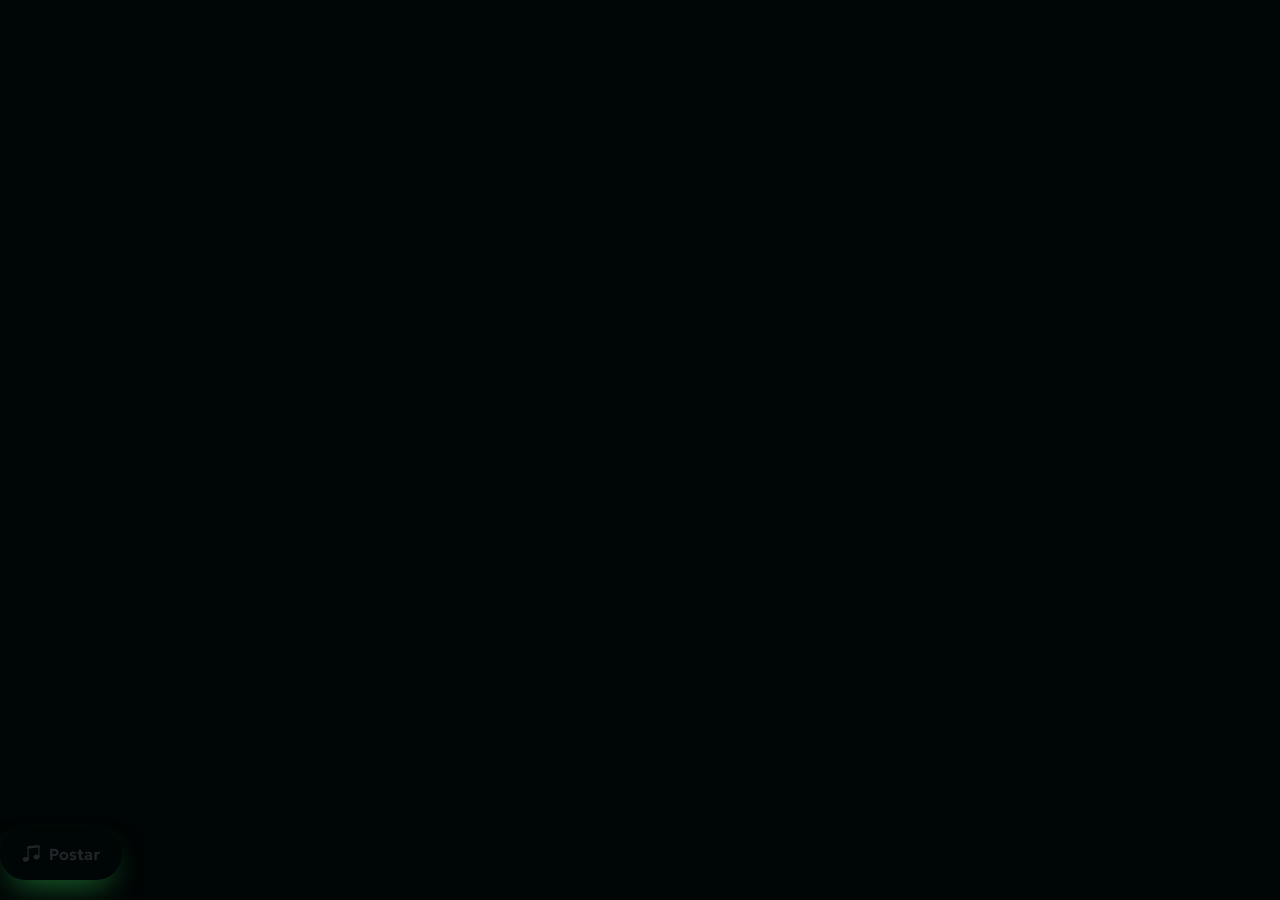
CreatePost › "Adicionar música" abre a busca focada; "Voltar" volta sem perder o texto
Click the button with aria-label "Criar post" at [61, 854], box x1=0 y1=828 x2=122 y2=880
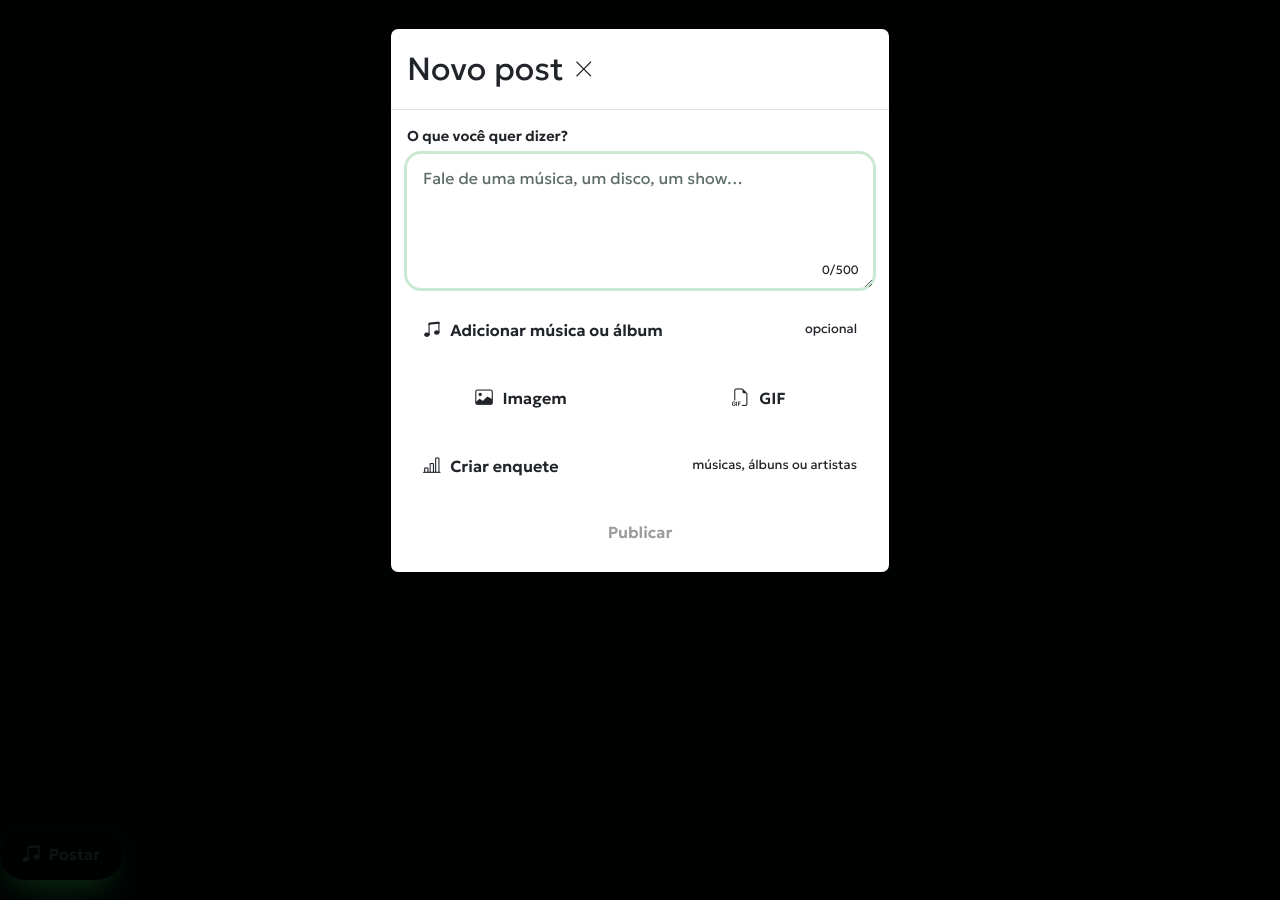
Type "rascunho" into the text box labelled "O que você quer dizer?" at [640, 221], box x1=407 y1=154 x2=873 y2=288
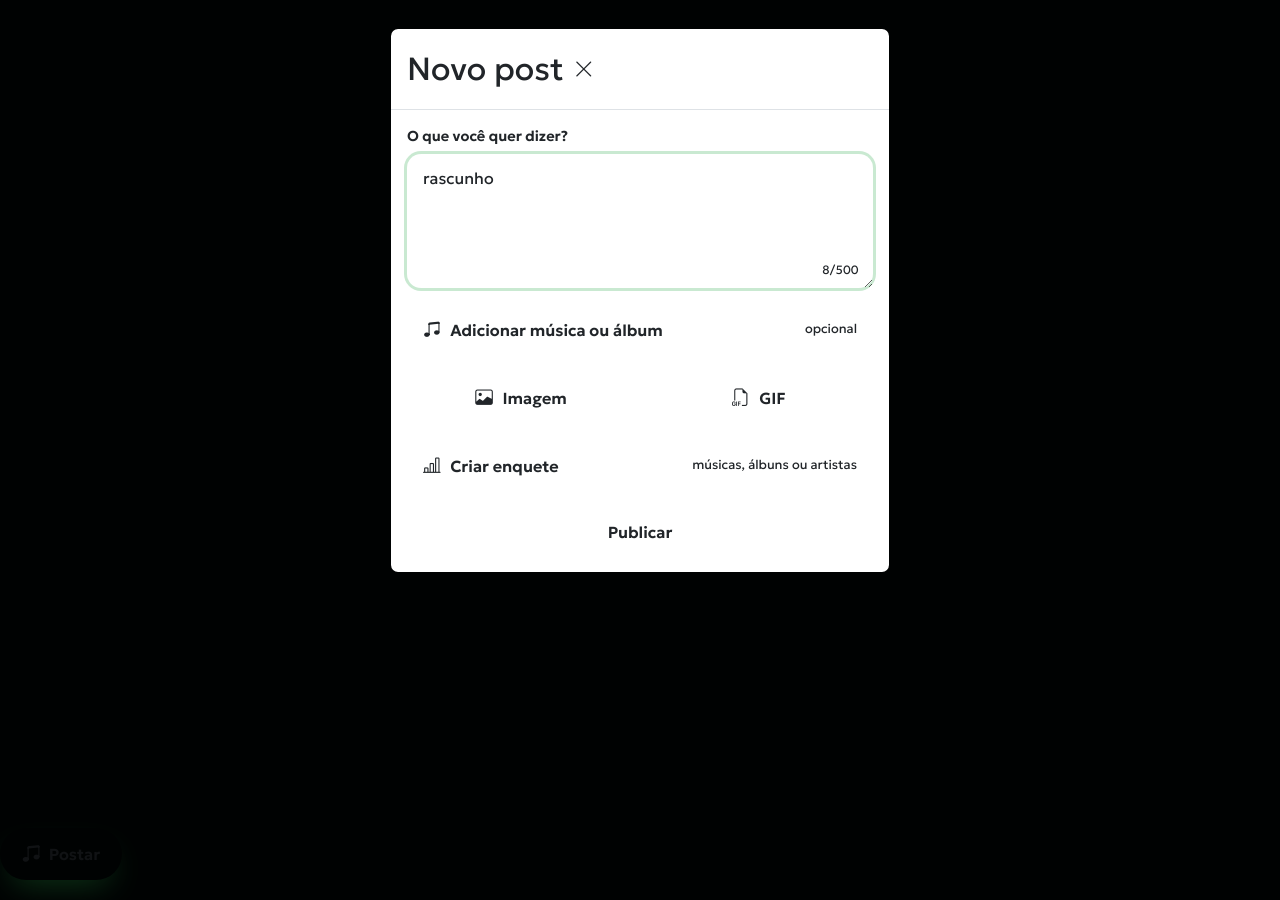
Click the button "Adicionar música ou álbum opcional" at [640, 330], box x1=407 y1=304 x2=873 y2=356
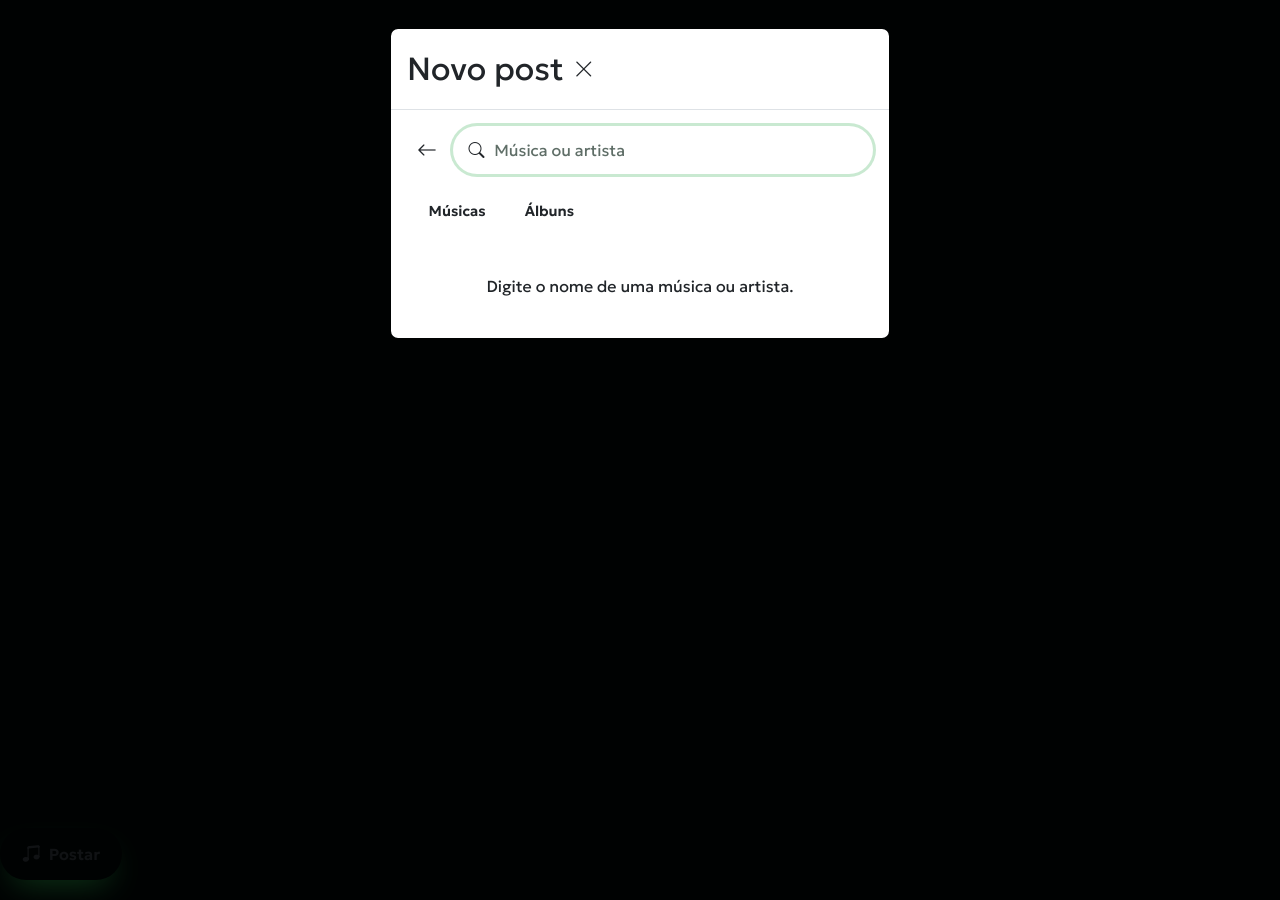
Now the text "Digite o nome de uma música ou artista." is shown, box x1=486 y1=276 x2=794 y2=296
Click the button named "Voltar" at [427, 150], box x1=407 y1=130 x2=447 y2=170
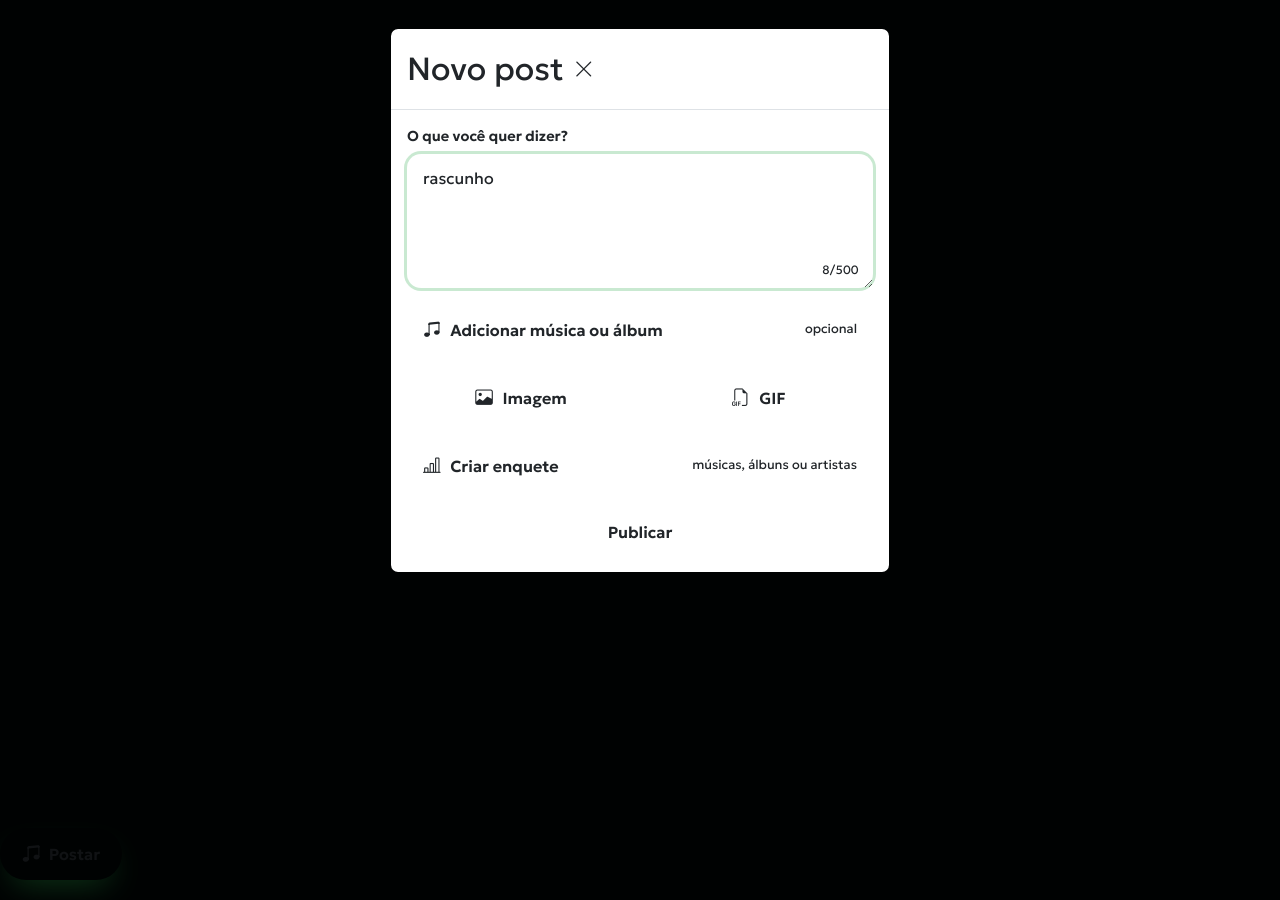
Now the text box labelled "O que você quer dizer?" holds "rascunho", box x1=407 y1=154 x2=873 y2=288
